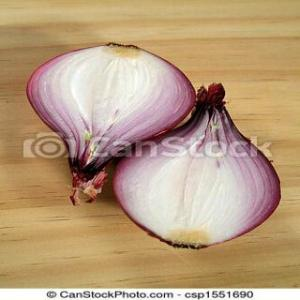onion: (109, 88, 283, 252), (26, 40, 192, 192)
